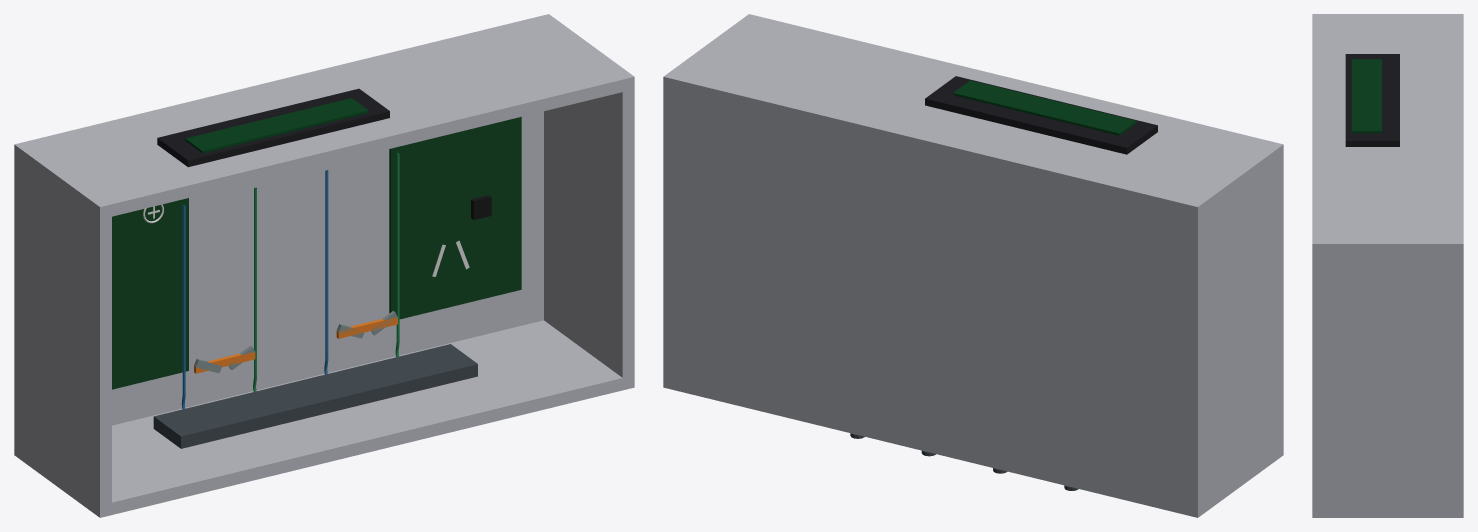
File: chassis.obj
The picture shows the model from 3 angles, left to right: view 1: azimuth 30°, elevation 25°; view 2: azimuth 150°, elevation 25°; view 3: azimuth 270°, elevation 25°; orthographic projection. The views are drawn at different scales.
Visible parts, largest first — view 1: MeterChassis, Wall_Front, Wall_Rear, Wall_Left, Wall_Right, AdcPCB, CurrentSourcePCB, Connector, VoltmeterFace, VoltmeterFace_Screen, Wire_Internal_Force_N, Wire_Internal_Force_P (+1 smaller); view 2: MeterChassis, Wall_Front, Wall_Left, VoltmeterFace, VoltmeterFace_Screen, Wall_Rear; view 3: Wall_Right, Wall_Front, MeterChassis, VoltmeterFace, VoltmeterFace_Screen, Wall_Rear.
Part boxes in pixels (x1,y1,x2,y2): MeterChassis: [14, 14, 555, 459]; Wall_Front: [21, 19, 634, 219]; Wall_Rear: [21, 320, 634, 517]; Wall_Left: [21, 162, 111, 505]; Wall_Right: [544, 89, 634, 377]; AdcPCB: [389, 117, 521, 319]; CurrentSourcePCB: [112, 198, 188, 389]; Connector: [153, 344, 477, 448]; VoltmeterFace: [157, 88, 389, 167]; VoltmeterFace_Screen: [185, 98, 368, 153]; Wire_Internal_Force_N: [324, 170, 328, 374]; Wire_Internal_Force_P: [181, 205, 185, 409]; MeterChassis: [663, 71, 1204, 517]; Wall_Front: [670, 14, 1283, 214]; Wall_Left: [1204, 157, 1283, 500]; VoltmeterFace: [925, 76, 1157, 154]; VoltmeterFace_Screen: [953, 80, 1136, 135]; Wall_Rear: [1204, 443, 1283, 512]; Wall_Right: [1312, 255, 1451, 506]; Wall_Front: [1312, 14, 1451, 254]; MeterChassis: [1451, 14, 1463, 517]; VoltmeterFace: [1345, 54, 1399, 146]; VoltmeterFace_Screen: [1351, 59, 1381, 133]; Wall_Rear: [1312, 507, 1451, 517].
Bounding box in the file's own units: 0.9 × 0.57 × 0.25.
